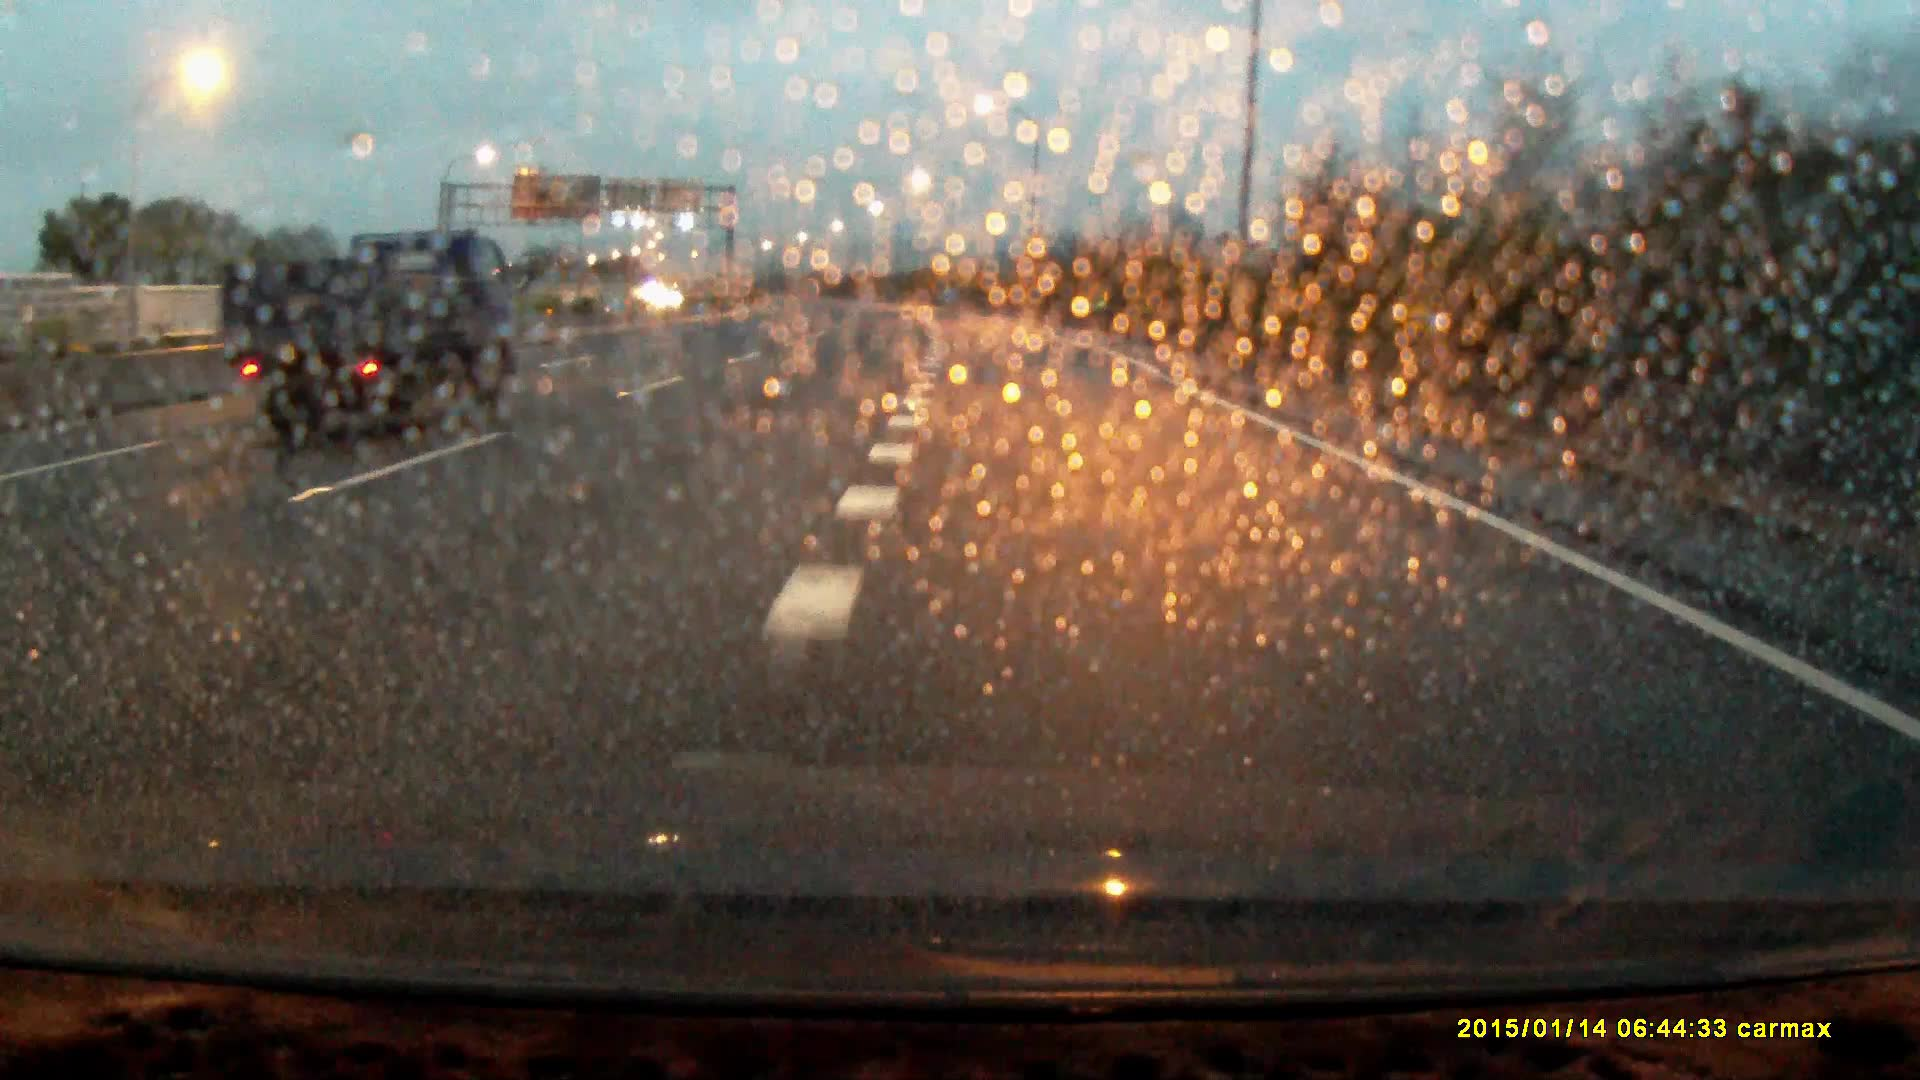vehicle: (229, 233, 502, 455)
